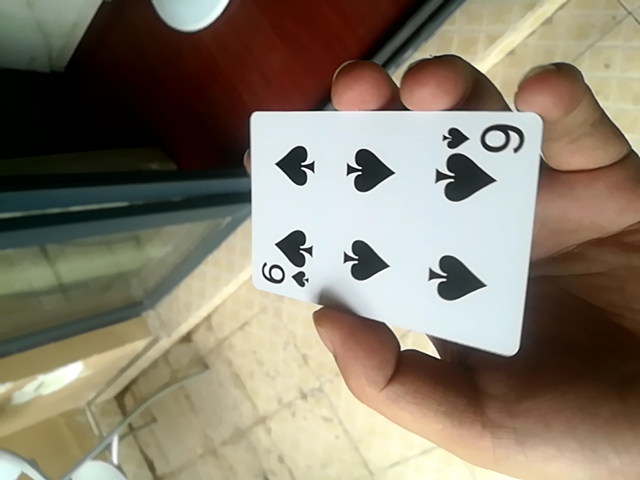ht 6: (240, 106, 546, 360)
